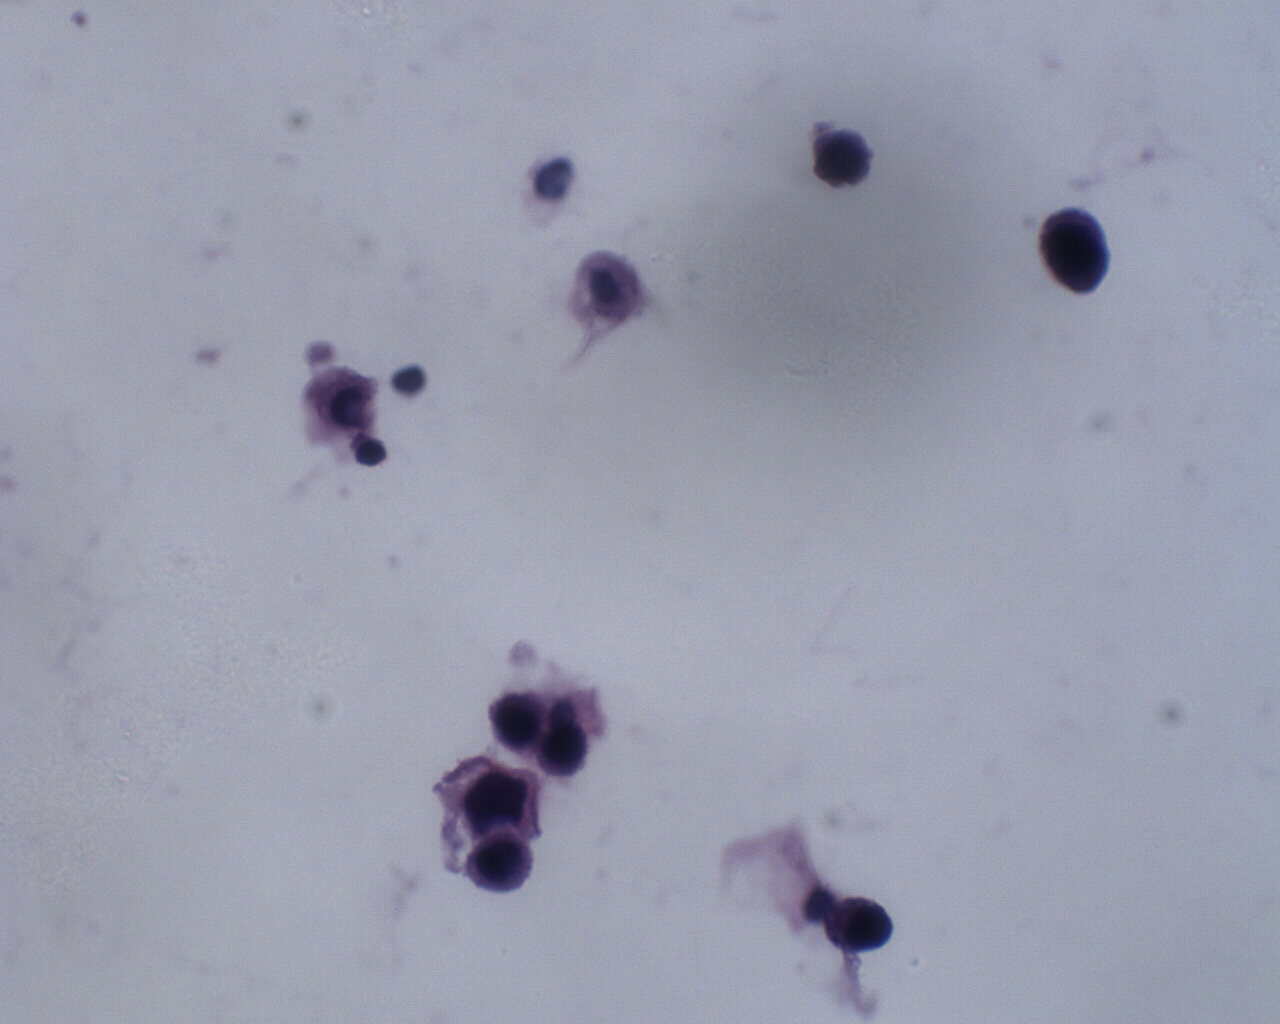ab: (1034, 204, 1117, 302), (464, 759, 545, 841), (458, 832, 536, 895), (811, 121, 877, 193), (822, 895, 892, 961), (487, 688, 551, 757)
